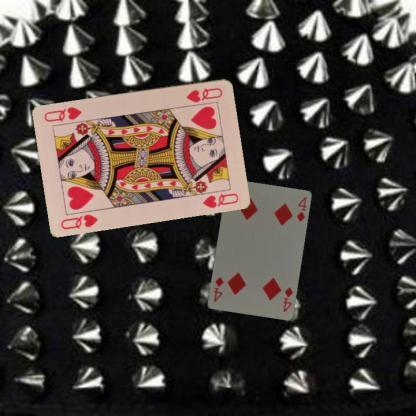4d: (280, 284, 294, 313)
Qh: (58, 210, 100, 230), (184, 84, 224, 104)
